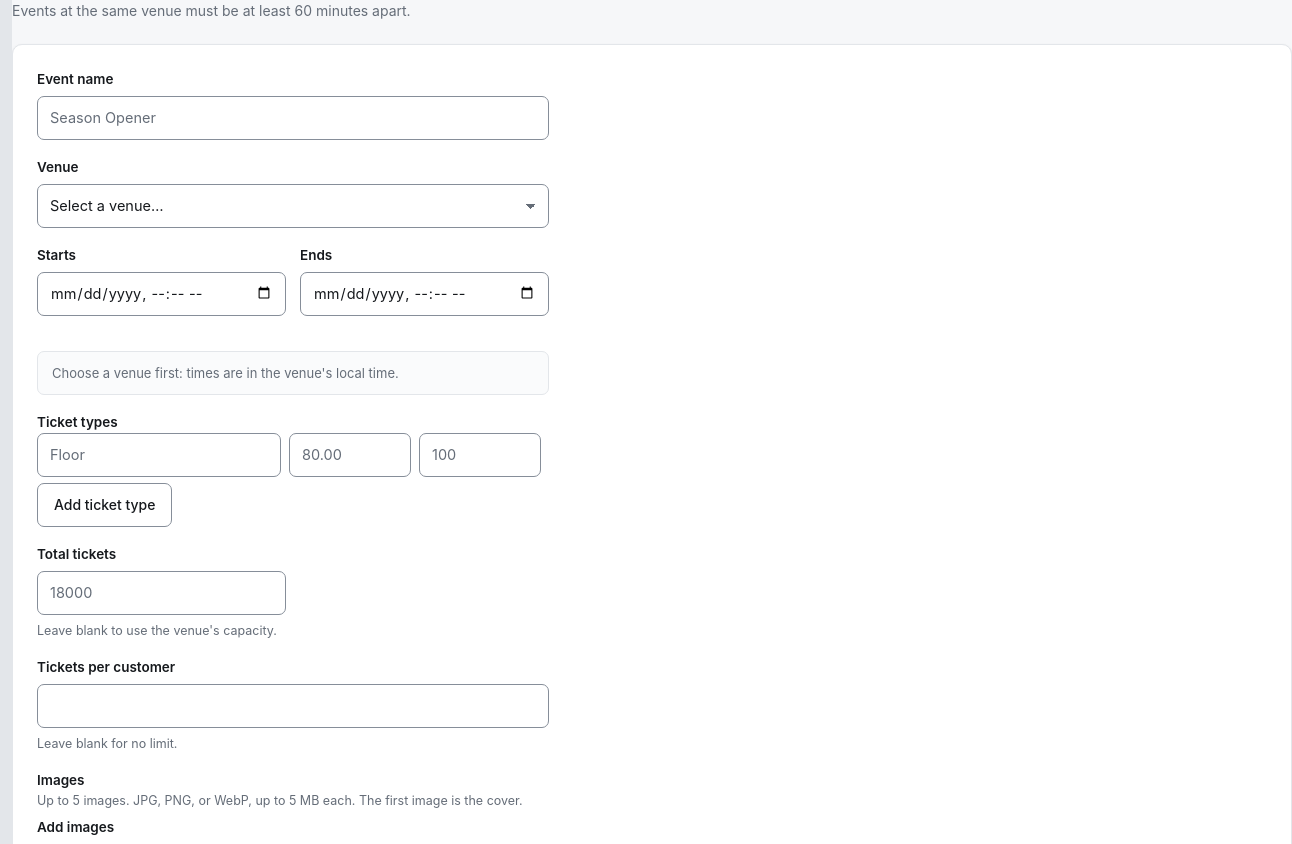
Test: daylight saving (FR-016, FR-017) › refuses a skipped time before sending, keeping every value
In the field labelled "Event name": [293, 118] box [37,96,549,140], type "Fall Concert"
Select "Riverside (22,090 seats)" in the dropdown labelled "Venue": [293, 206] box [37,184,549,228]
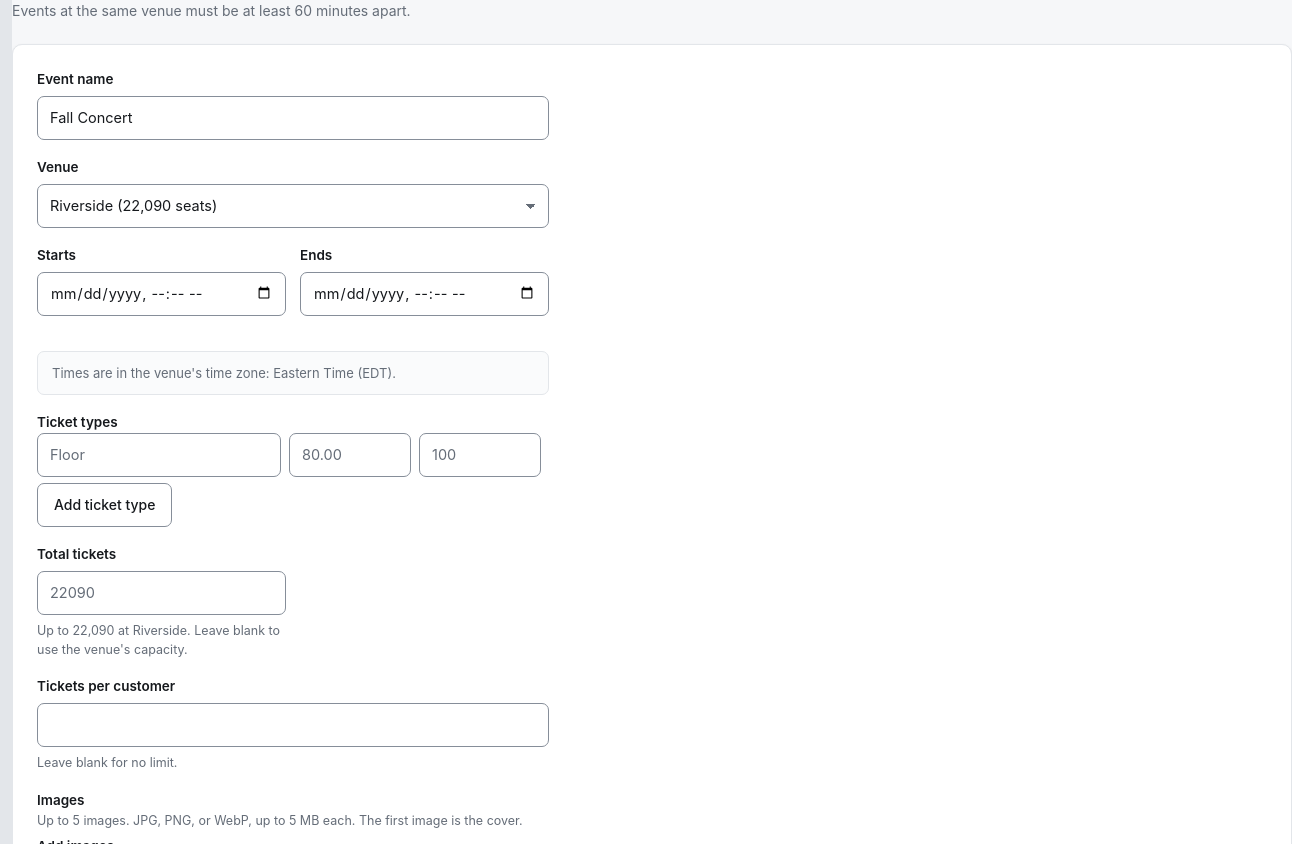
In the field labelled "Starts": [162, 294] box [37,272,286,316], type "2027-03-14T02:30"
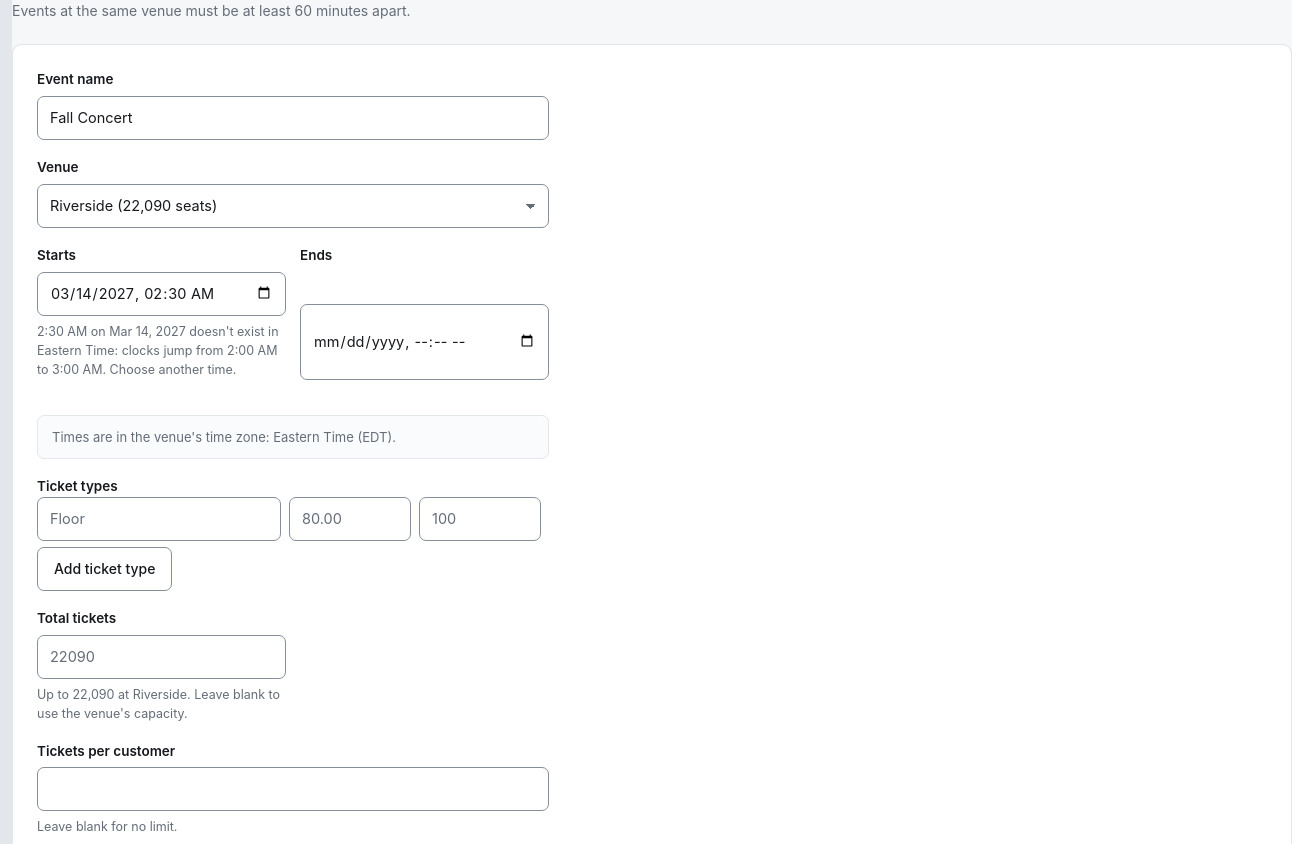
In the field labelled "Ends": [424, 342] box [300,304,549,380], type "2027-03-14T04:00"
In the field named "Ticket type 1 name": [159, 519] box [37,497,281,541], type "General"
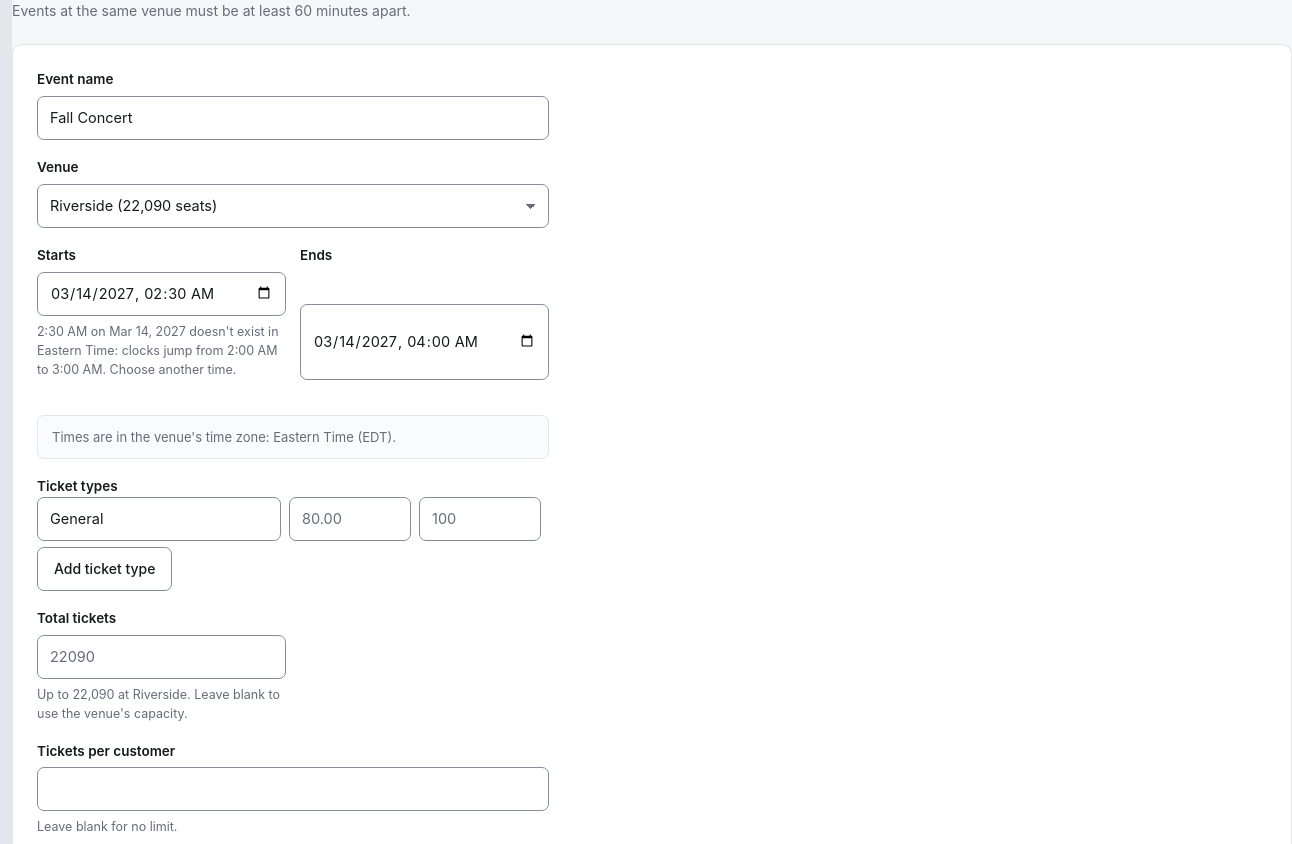
In the field named "Ticket type 1 price": [350, 519] box [289,497,411,541], type "45.00"
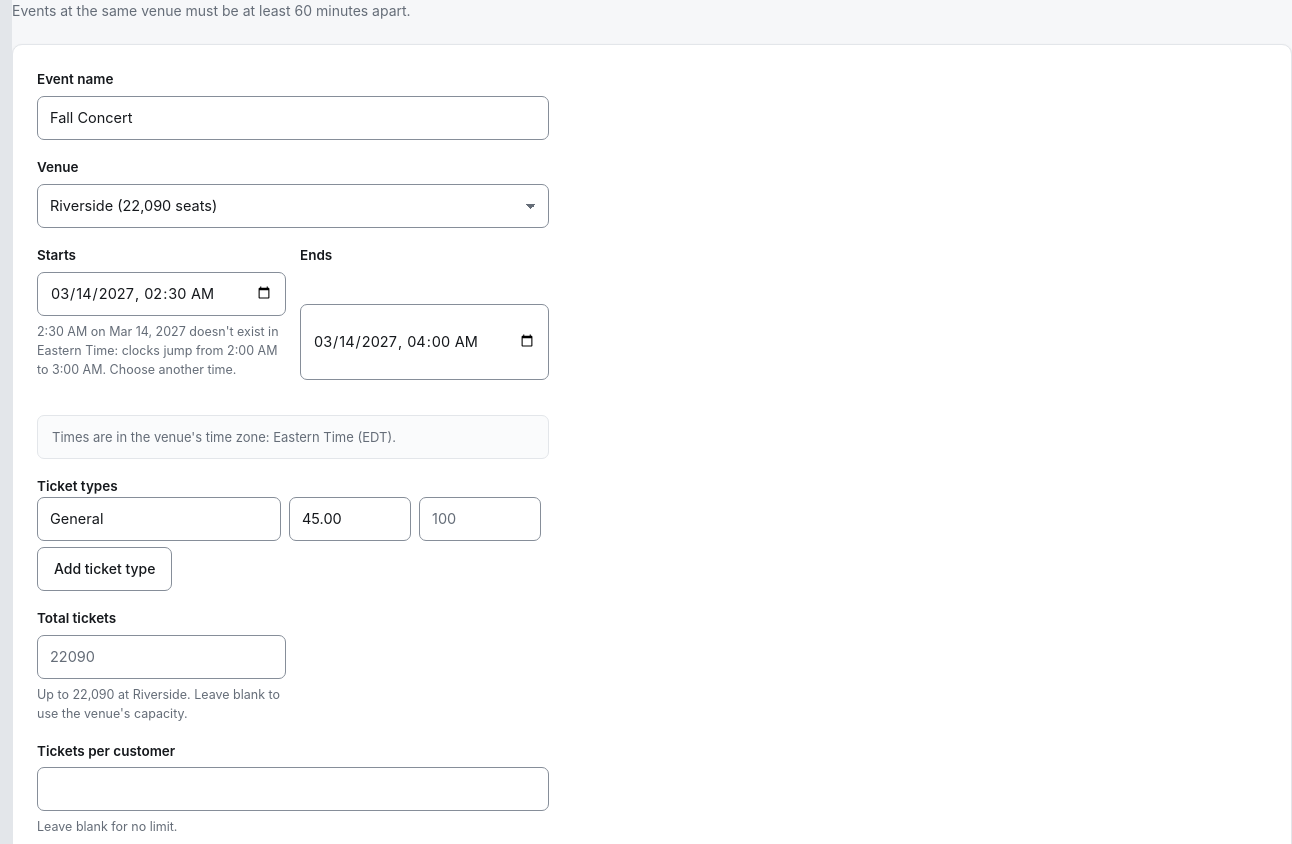
In the number field named "Ticket type 1 quantity": [480, 519] box [419,497,541,541], type "10"
(page scrolled)
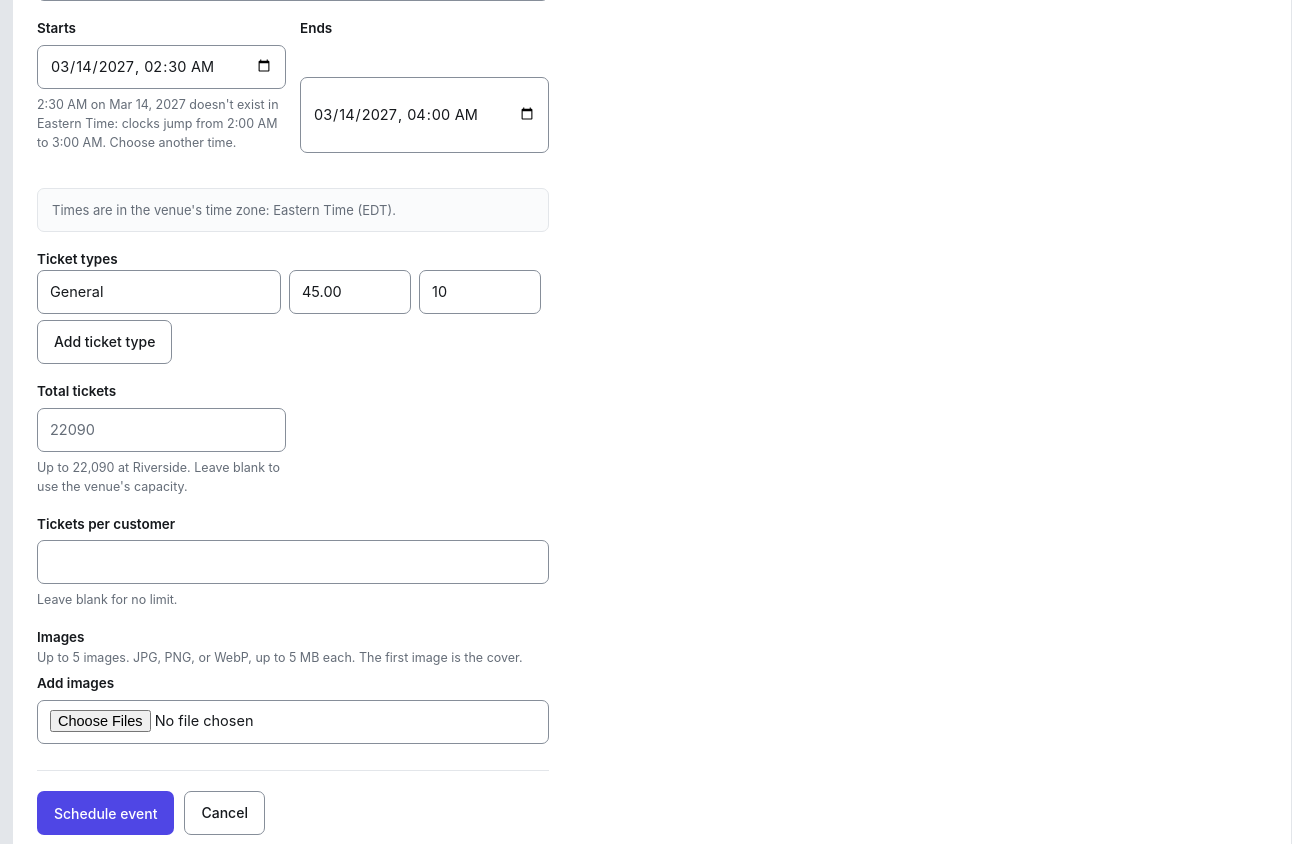
Now the text with test id "startsAt-skipped" shows "2:30 AM on Mar 14, 2027 doesn't exist in Eastern Time: clocks jump from 2:00 AM to 3:00 AM. Choose another time.", box [37,97,278,150]
Click the button "Schedule event": [106, 813] box [37,791,174,835]
(page scrolled)
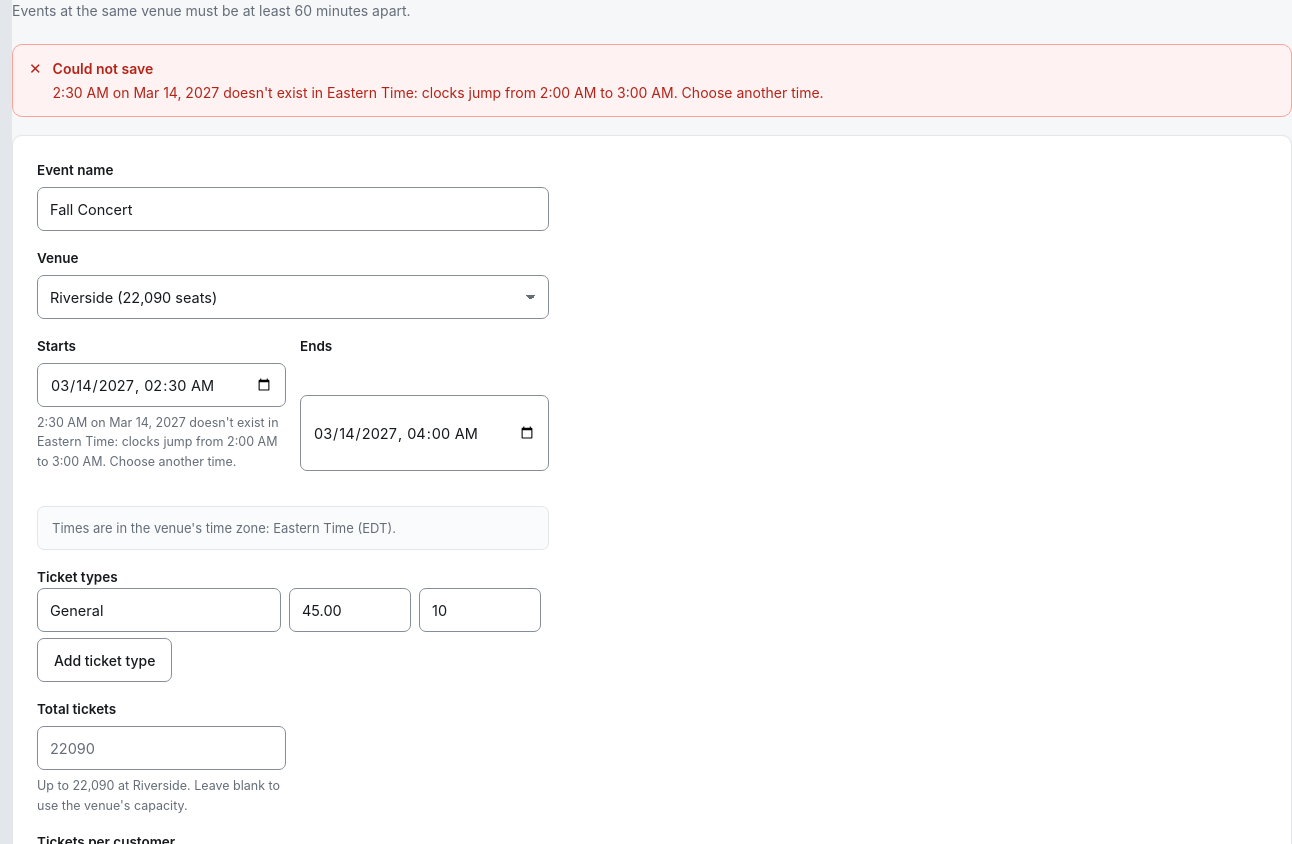
Now the message with test id "error-banner" shows "2:30 AM on Mar 14, 2027 doesn't exist in Eastern Time: clocks jump from 2:00 AM to 3:00 AM. Choose another time.", box [53,84,824,101]
